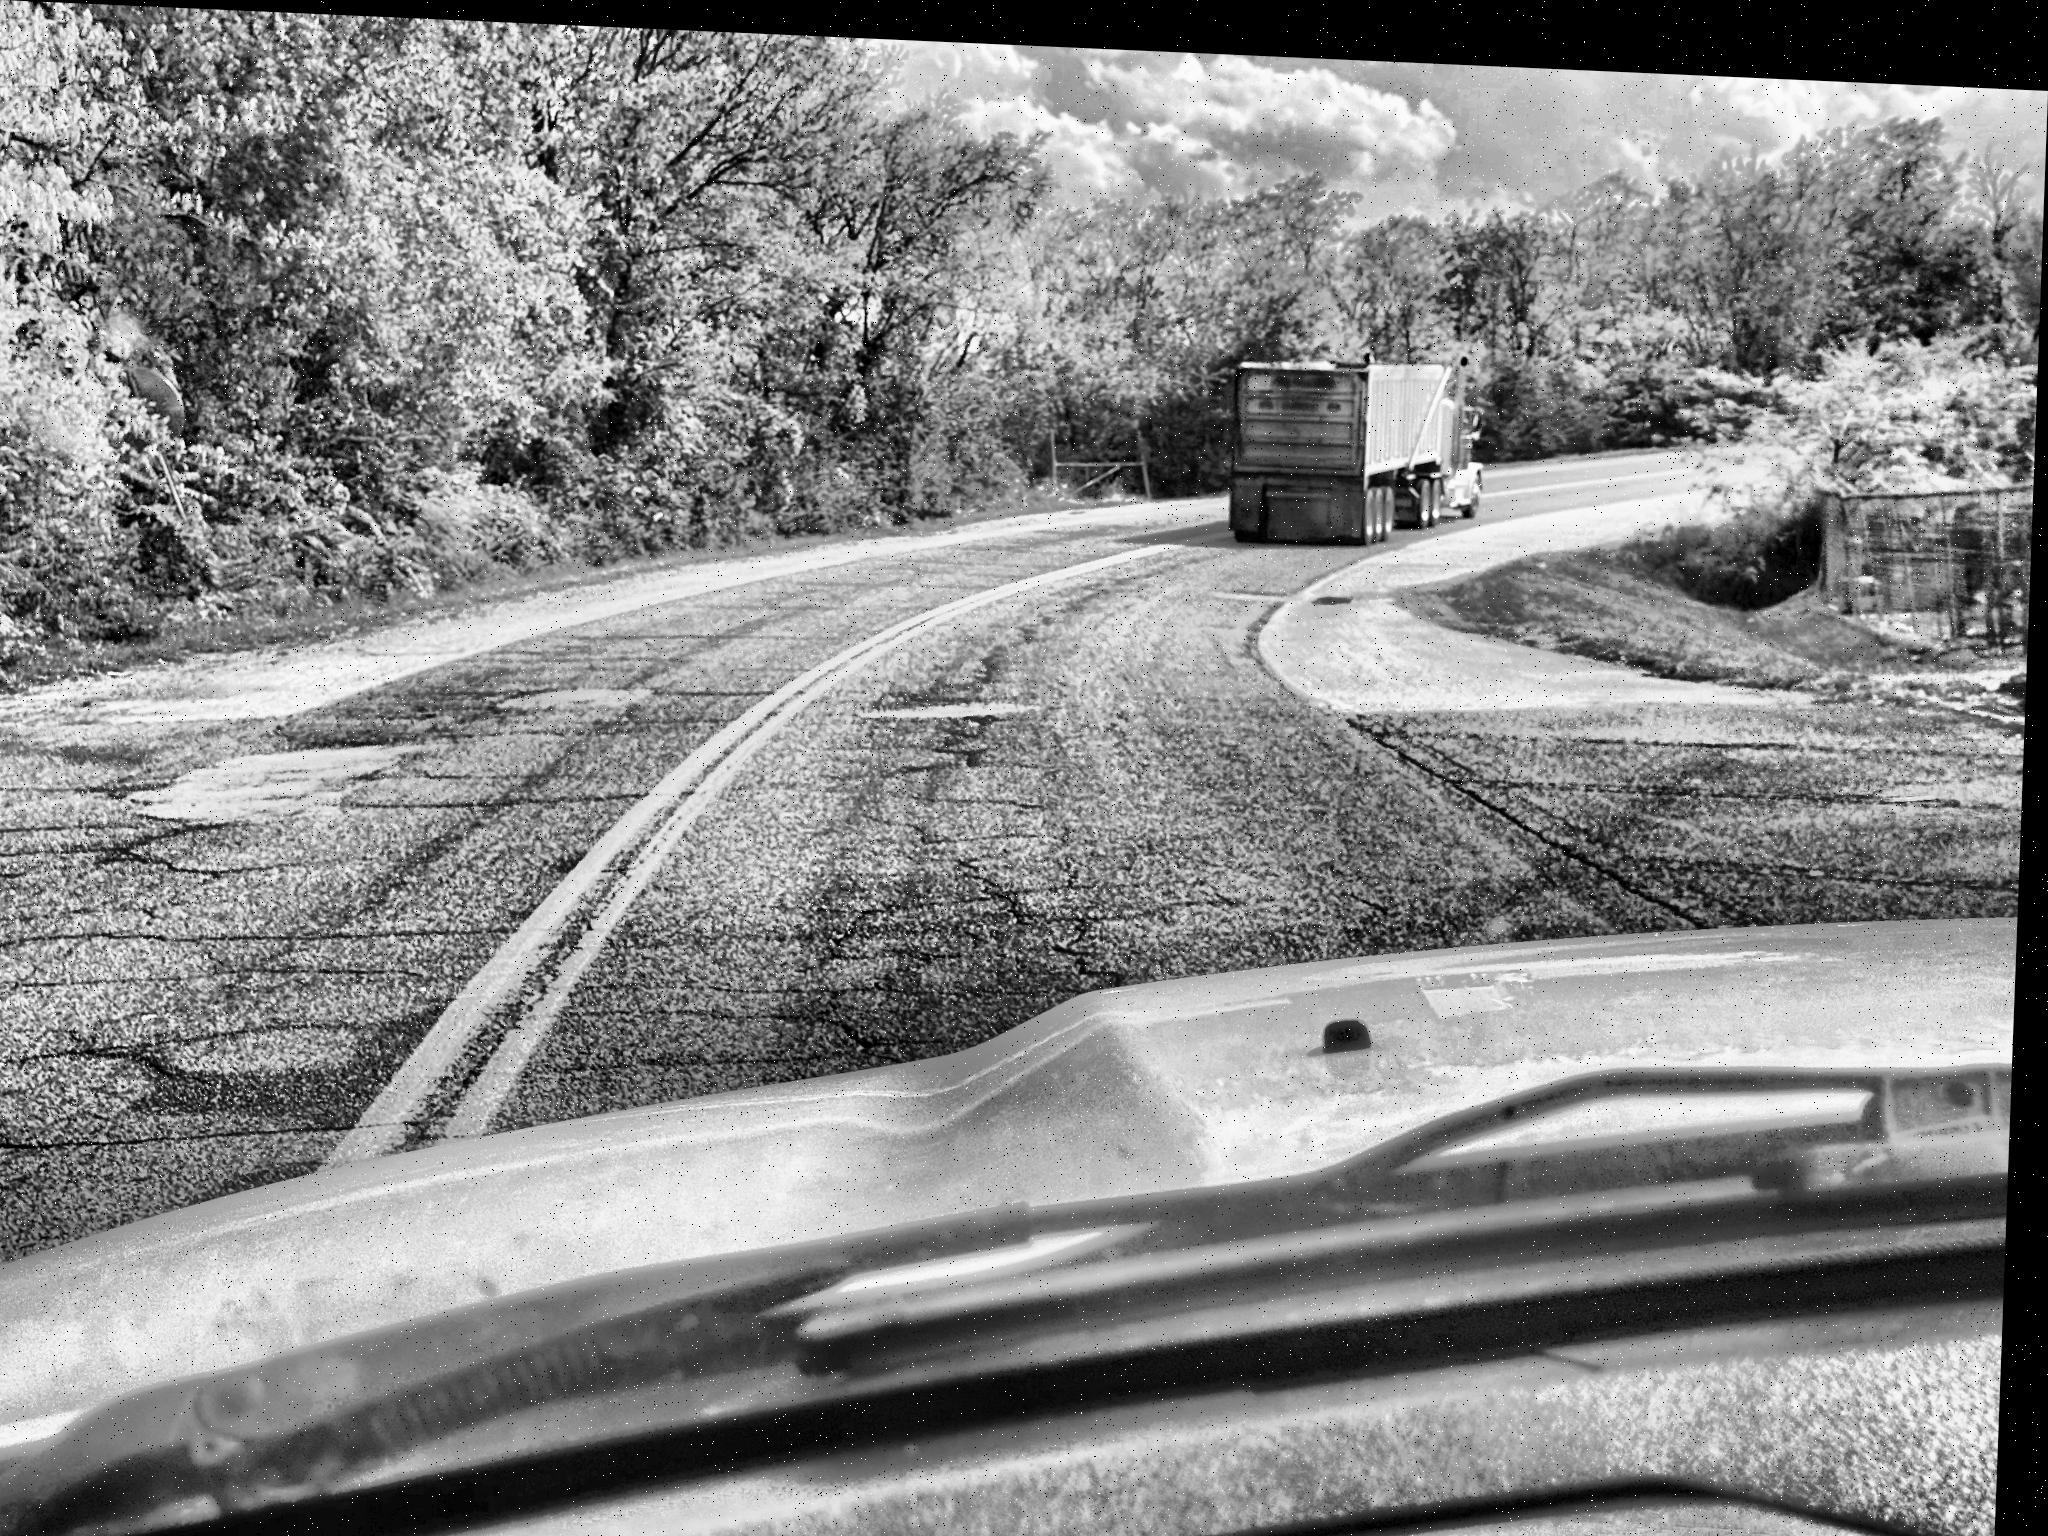pothole: (1319, 578, 1358, 597)
